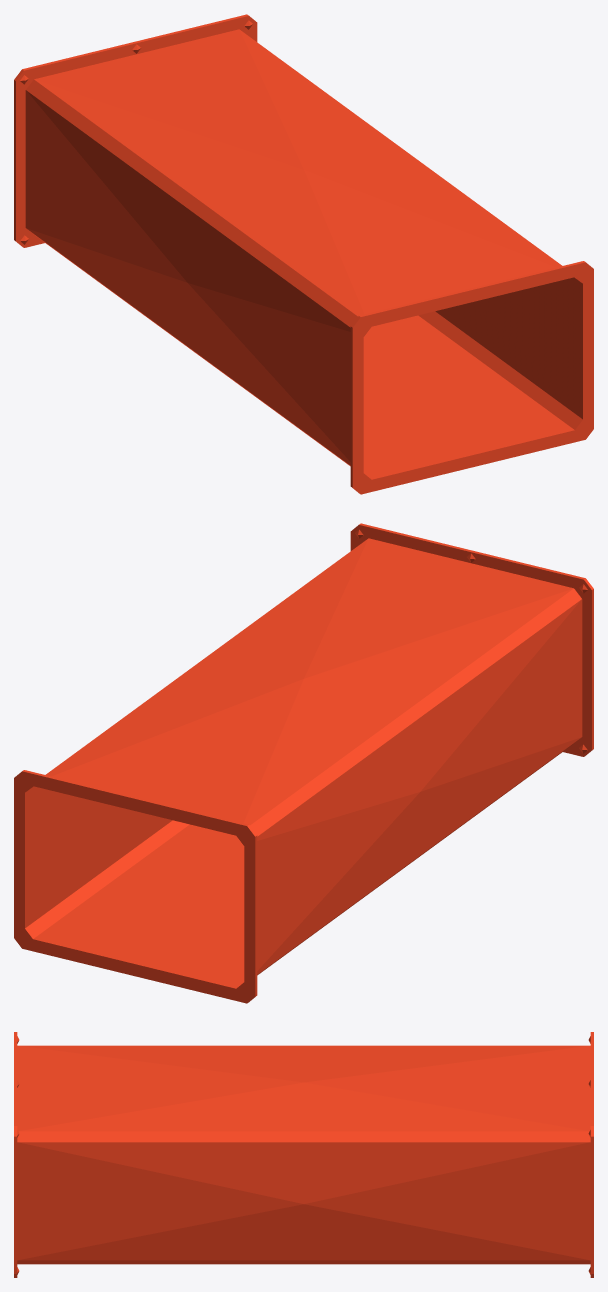
Rendered from SM_Vent_Straight_City.fbx.
The picture shows the model from 3 angles, top to bottom: view 1: azimuth 30°, elevation 25°; view 2: azimuth 150°, elevation 25°; view 3: azimuth 270°, elevation 25°; orthographic projection. The views are drawn at different scales.
Visible parts, largest first — view 1: SM_Vent_Straight_City; view 2: SM_Vent_Straight_City; view 3: SM_Vent_Straight_City.
Boxes of the visible parts, x1,y1,x2,y2 form: SM_Vent_Straight_City: (14,14,593,494); SM_Vent_Straight_City: (14,523,593,1003); SM_Vent_Straight_City: (14,1032,593,1277).
Size of the model in its own units: 0.8224 by 0.578 by 2.
